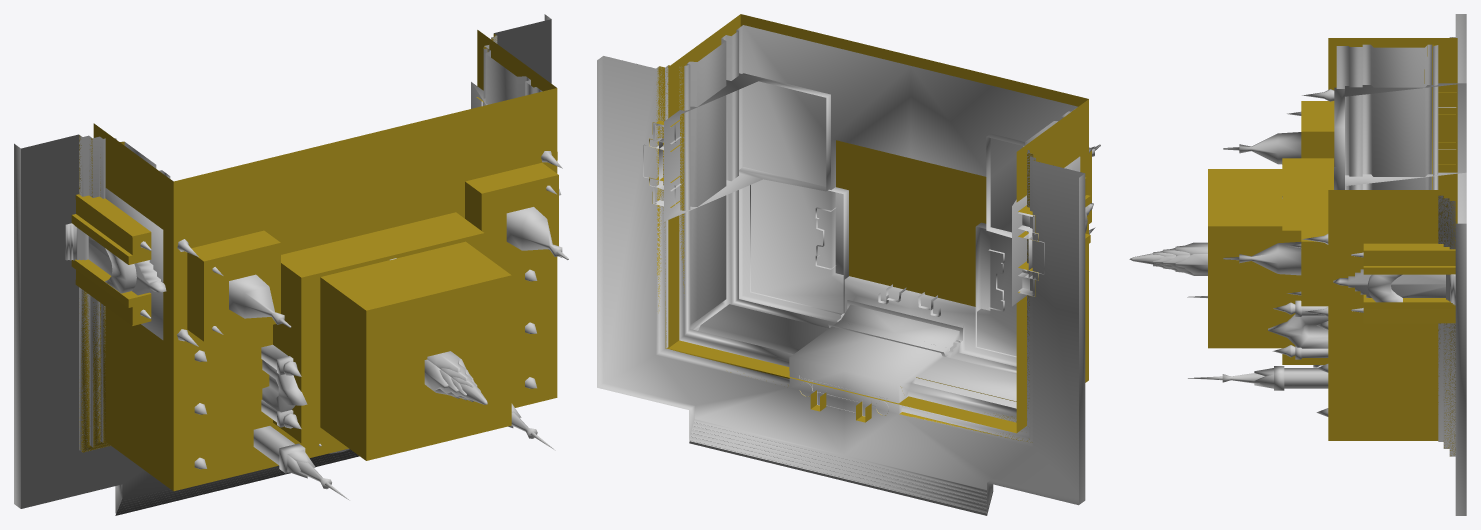
3 views of the same model, side by side, from view 1: azimuth 30°, elevation 25°; view 2: azimuth 150°, elevation 25°; view 3: azimuth 270°, elevation 25° (orthographic). The views are drawn at different scales.
Parts seen in each view (by area): view 1: object0011_box, object0015_floor, object0004_UA120; view 2: object0004_UA120, object0011_box, object0015_floor; view 3: object0011_box, object0004_UA120.
Boxes of the visible parts, bbox=[...] form: object0011_box: bbox=[71, 30, 558, 491]; object0015_floor: bbox=[21, 19, 551, 515]; object0004_UA120: bbox=[14, 14, 568, 513]; object0004_UA120: bbox=[597, 25, 1100, 513]; object0011_box: bbox=[649, 14, 1091, 442]; object0015_floor: bbox=[689, 422, 992, 515]; object0011_box: bbox=[1208, 37, 1457, 455]; object0004_UA120: bbox=[1129, 14, 1466, 515].
Size of the model in its own units: 121 by 88.08 by 82.44.
